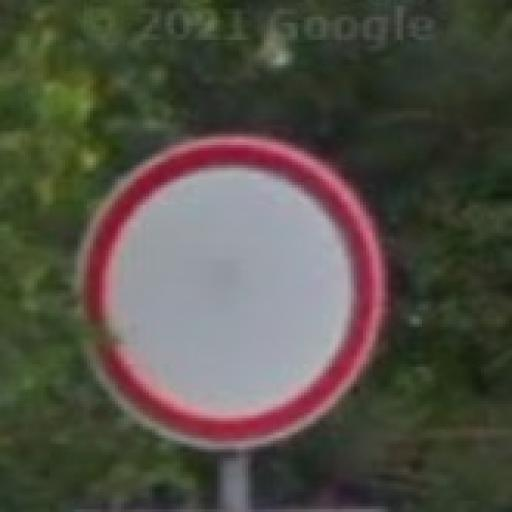traffic_sign: (69, 135, 389, 450)
